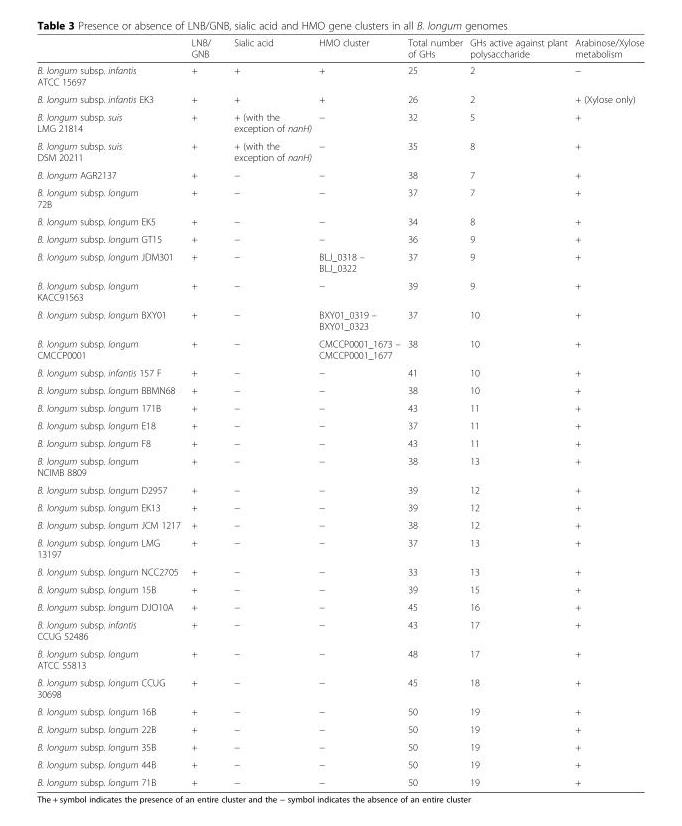table: (36, 36, 643, 787)
table column: (36, 36, 185, 787), (465, 36, 570, 787), (221, 36, 314, 787), (314, 36, 403, 787), (570, 36, 643, 787), (403, 36, 465, 787), (185, 36, 221, 787)
table column header: (36, 36, 643, 61)
table row: (36, 61, 643, 90), (36, 107, 643, 136), (36, 136, 643, 165), (36, 183, 643, 212), (36, 247, 643, 276), (36, 276, 643, 305), (36, 305, 643, 334), (36, 334, 643, 363), (36, 451, 643, 480), (36, 533, 643, 562), (36, 615, 643, 644), (36, 644, 643, 673), (36, 673, 643, 702), (36, 36, 643, 61), (36, 165, 643, 183), (36, 229, 643, 247), (36, 380, 643, 398), (36, 398, 643, 416), (36, 433, 643, 451), (36, 480, 643, 498), (36, 515, 643, 533), (36, 562, 643, 580), (36, 597, 643, 615), (36, 719, 643, 737), (36, 737, 643, 755), (36, 90, 643, 107), (36, 212, 643, 229), (36, 363, 643, 380), (36, 416, 643, 433), (36, 498, 643, 515), (36, 580, 643, 597), (36, 702, 643, 719), (36, 755, 643, 772), (36, 772, 643, 787)
